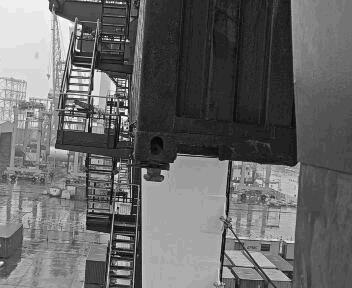twist_lock_1: (136, 255, 175, 288)
